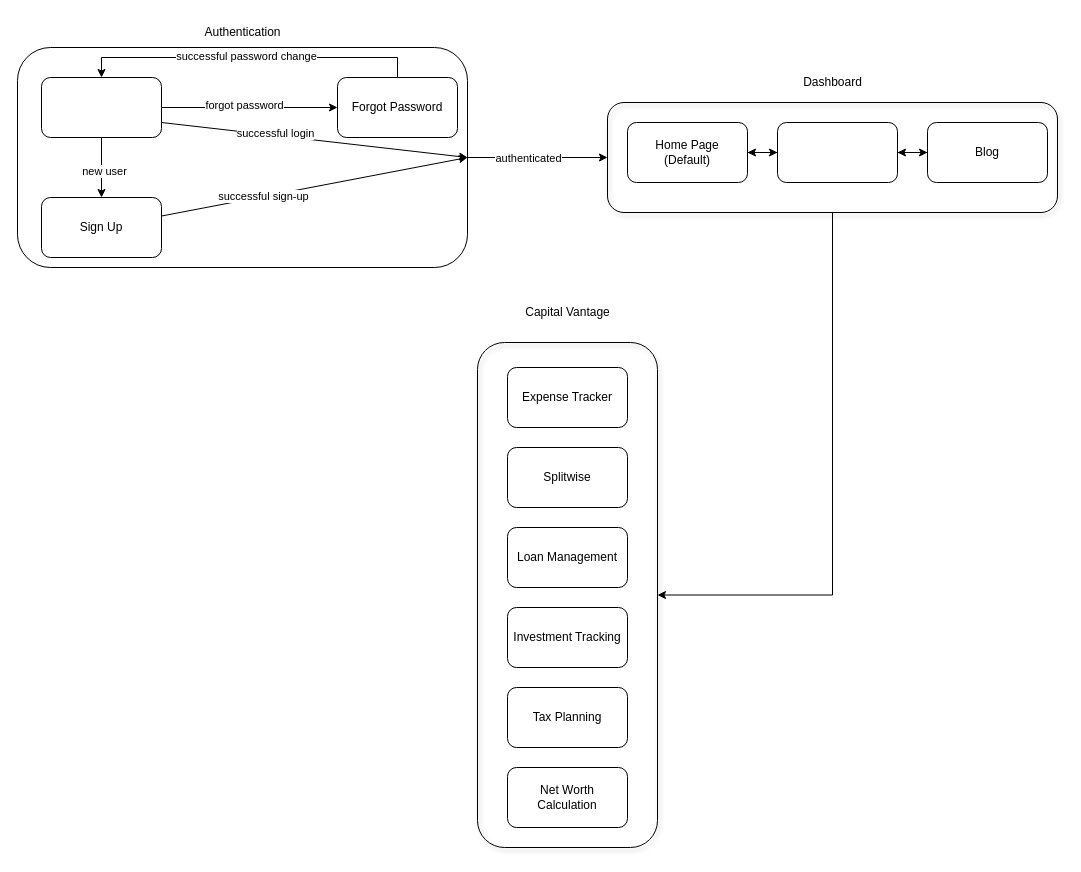
This 1081x872 diagram has some shape labels left out. Each missing label, with the centre of its shape:
"About" belongs at (837,152).
"Login" belongs at (101,107).
